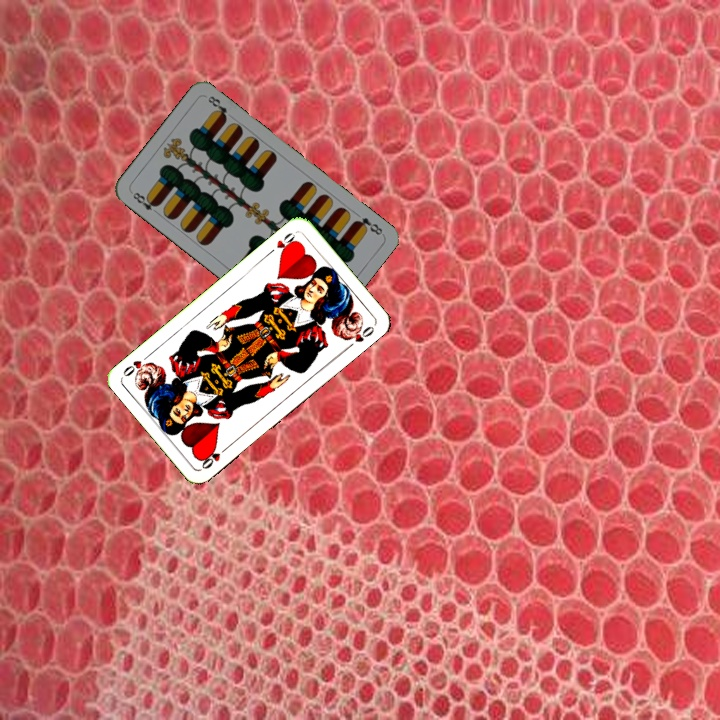E8: (127, 188, 162, 217), (350, 213, 385, 238)
HO: (197, 442, 232, 472), (264, 228, 299, 257)
